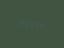four: (28, 19, 32, 28)
seven: (33, 20, 37, 28)
two: (18, 18, 22, 27)
zero: (23, 19, 27, 27), (38, 20, 42, 28)
